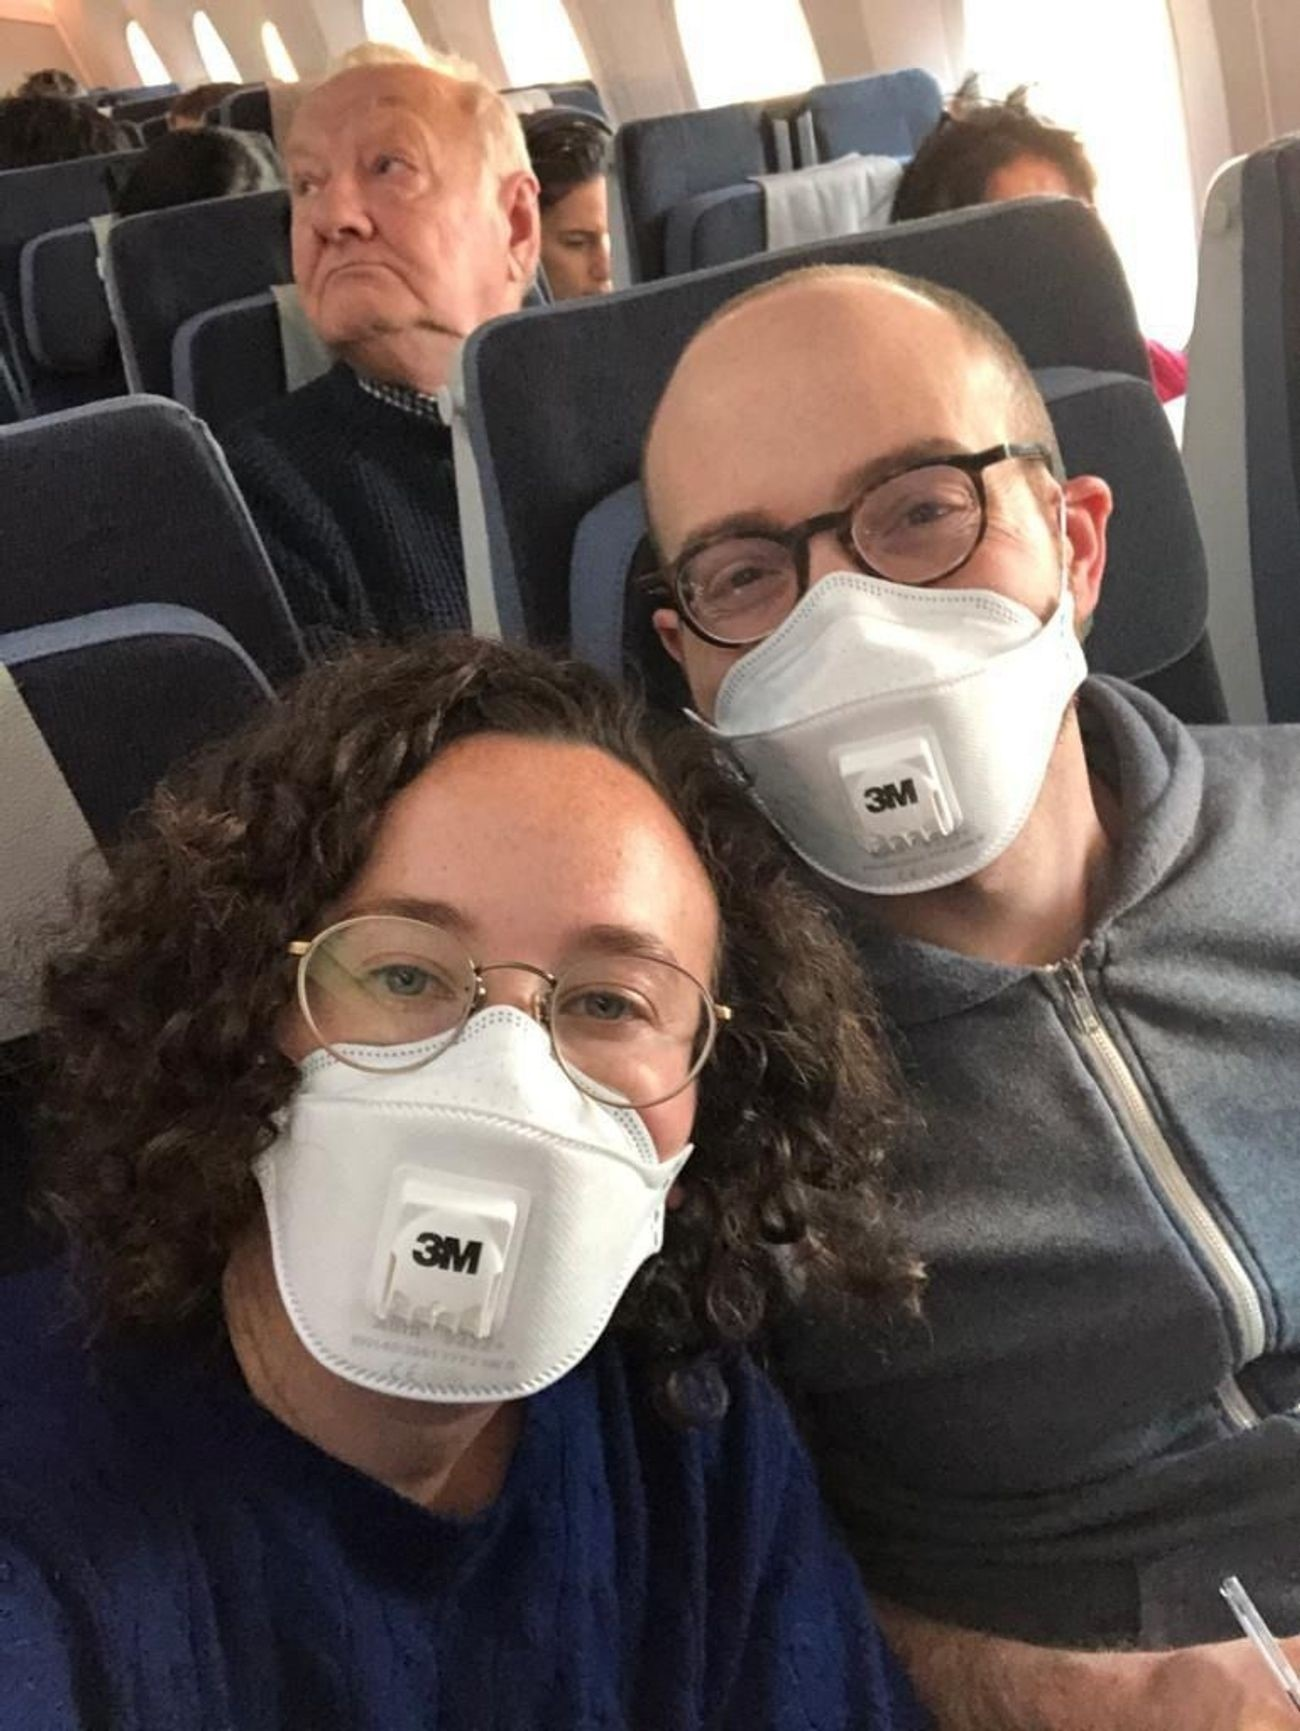face_no_mask: (253, 58, 552, 383)
face_with_mask: (217, 721, 756, 1443), (630, 266, 1114, 943)
